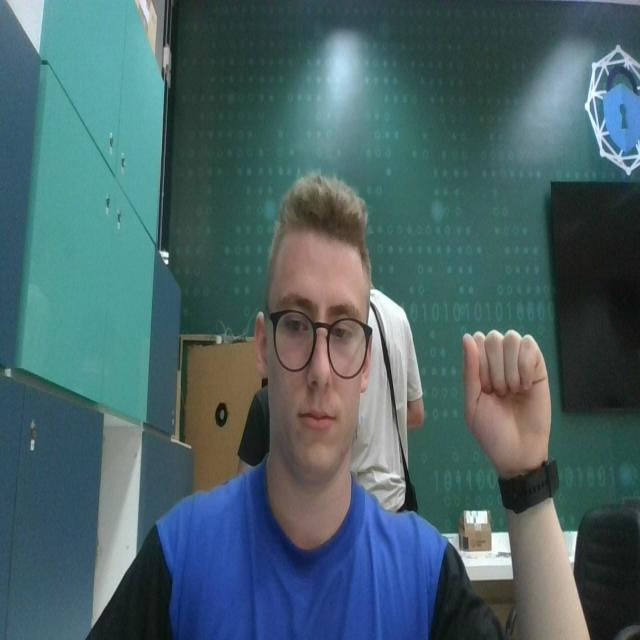A: (455, 318, 555, 466)
